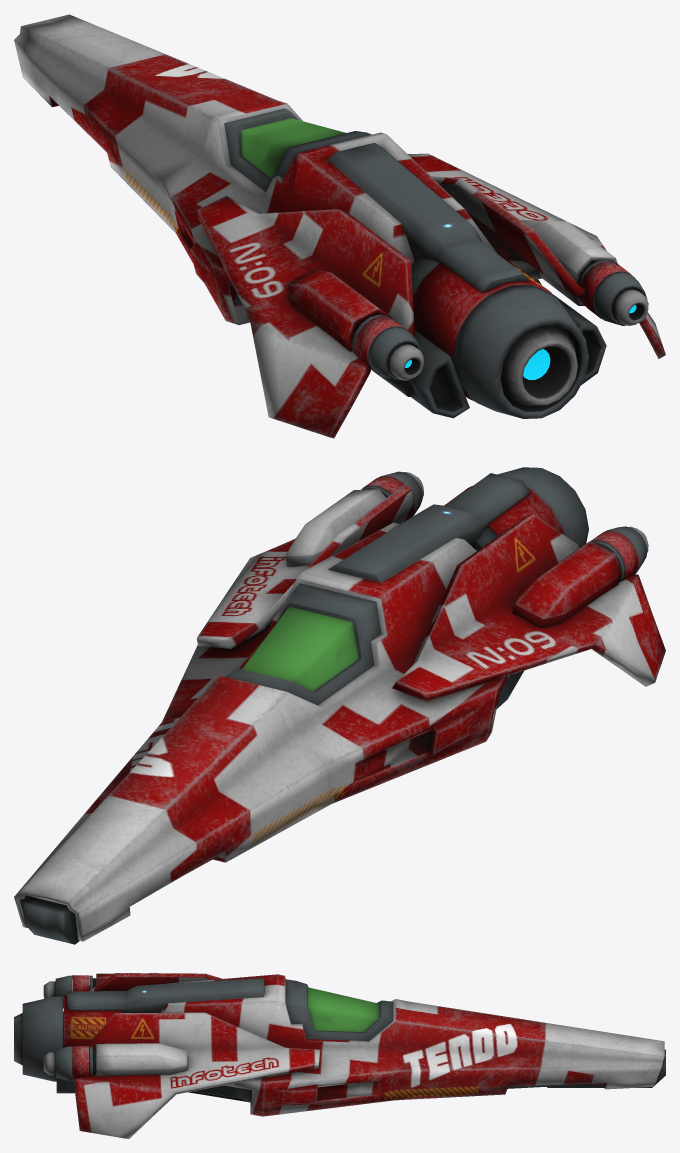
Rendered from rhs-x.glb.
3 renders of one model, top to bottom at view 1: azimuth 30°, elevation 25°; view 2: azimuth 150°, elevation 25°; view 3: azimuth 270°, elevation 25°, orthographic. The views are drawn at different scales.
Parts seen in each view (by area): view 1: RHS_4, RHS_2, RHS_1, RHS_3; view 2: RHS_4, RHS_2, RHS_3, RHS_1; view 3: RHS_4, RHS_2, RHS_3, RHS_1.
Part boxes in pixels (x1,y1,x2,y2): RHS_4: [14, 14, 614, 354]; RHS_2: [196, 153, 665, 438]; RHS_1: [354, 257, 648, 418]; RHS_3: [233, 220, 617, 351]; RHS_4: [14, 473, 625, 941]; RHS_2: [23, 467, 665, 944]; RHS_3: [285, 489, 621, 708]; RHS_1: [361, 472, 648, 580]; RHS_4: [67, 974, 664, 1116]; RHS_2: [22, 973, 665, 1138]; RHS_3: [96, 973, 251, 1102]; RHS_1: [14, 975, 234, 1098].
Bounding box in the file's own units: 0.8848 × 0.3283 × 2.
1 material, 1 textured.
